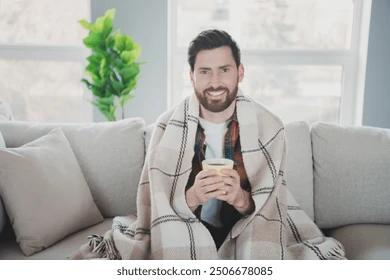blanket: (88, 86, 349, 260)
long sleeve shirt: (190, 101, 255, 234)
